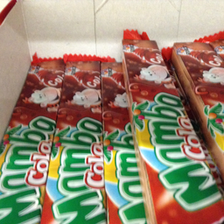candy: (114, 28, 220, 224), (49, 53, 106, 224), (3, 51, 59, 224), (95, 54, 140, 224)
